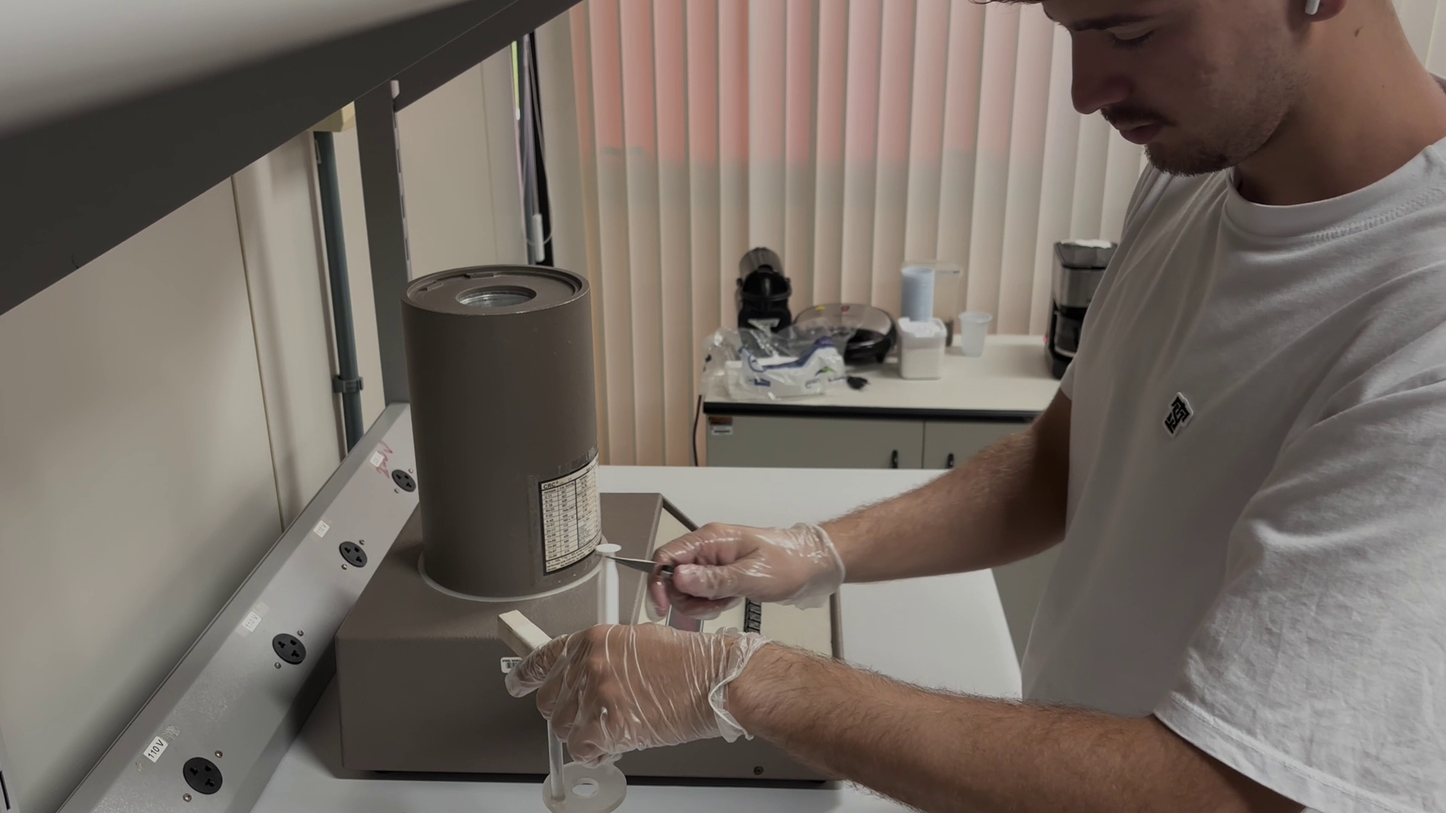Ativimetro: (399, 247, 610, 586)
Cesta: (499, 608, 630, 813)
Com_Luva: (505, 620, 770, 754), (648, 515, 847, 625)
